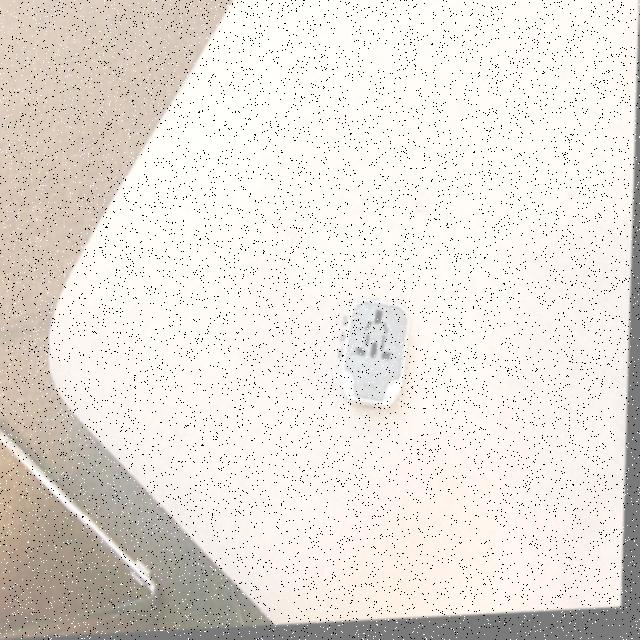adapter: (338, 299, 414, 415)
